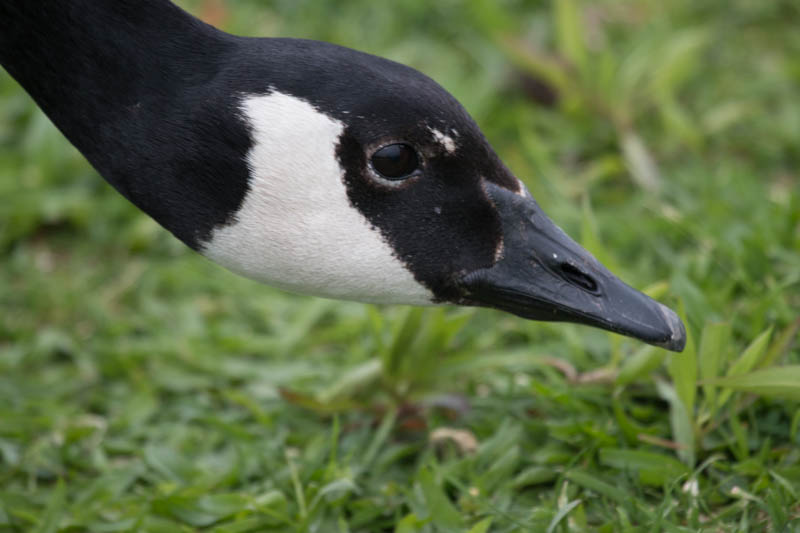goose-head: (158, 36, 688, 355)
